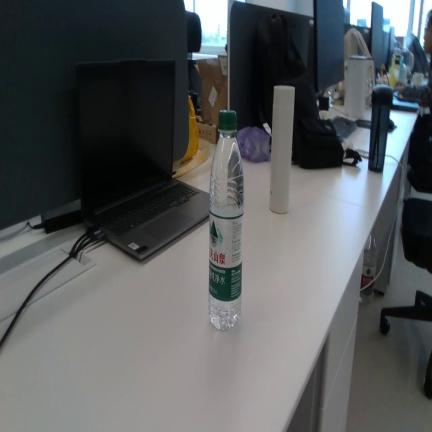bottle: (208, 110, 244, 330)
